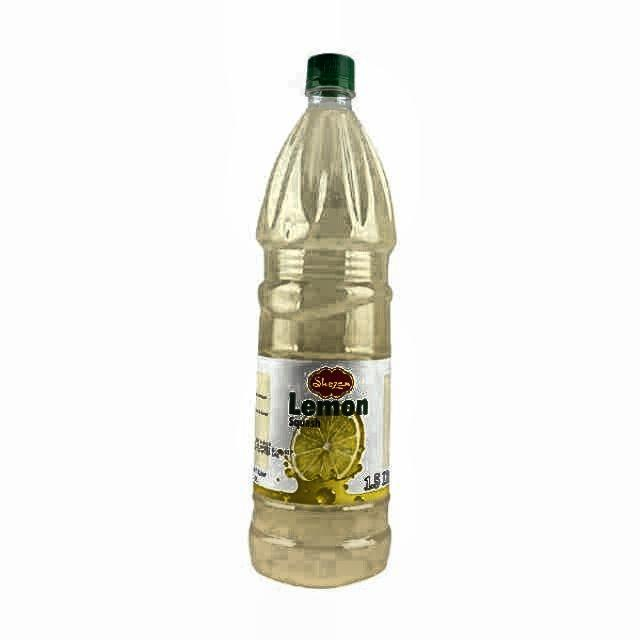plastic: (248, 53, 398, 592)
